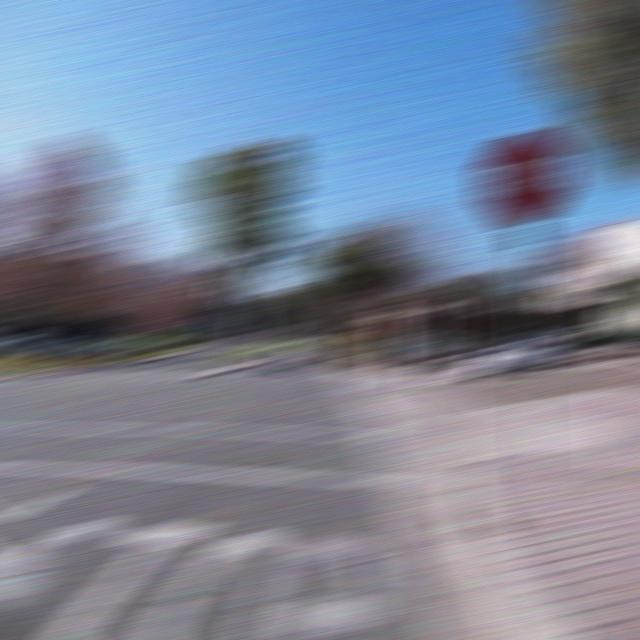stop_sign: (479, 131, 572, 224)
